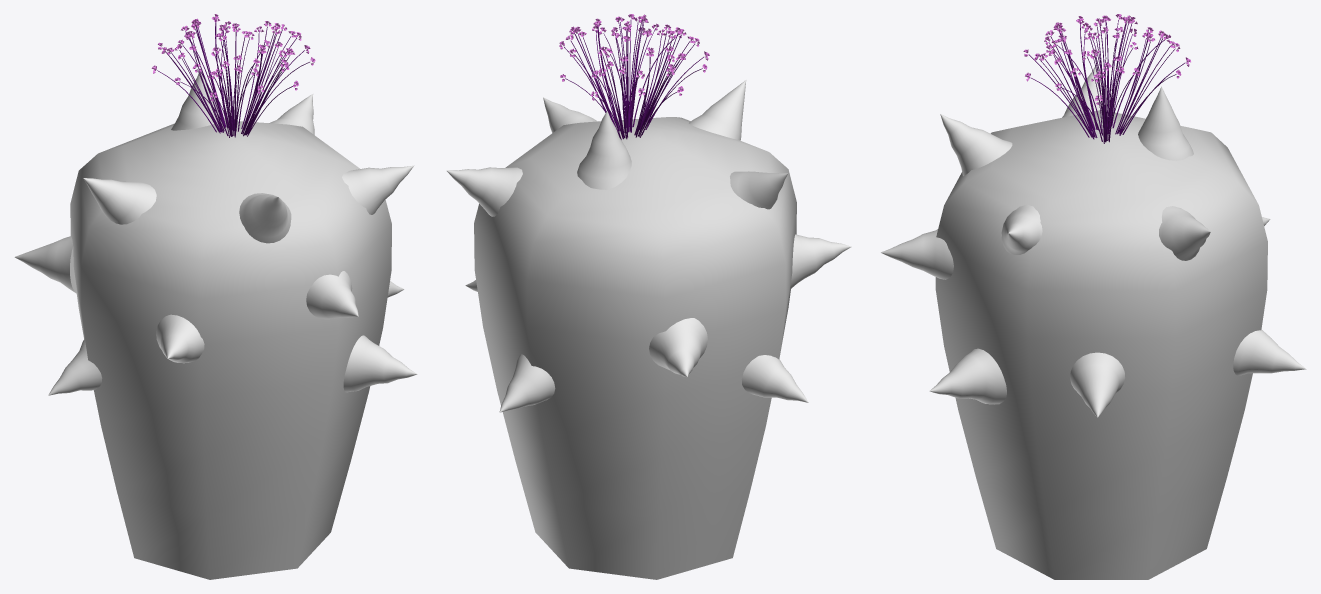
File: CactusFinal.fbx
3 views of the same model, side by side, from view 1: azimuth 30°, elevation 25°; view 2: azimuth 150°, elevation 25°; view 3: azimuth 270°, elevation 25° (orthographic). The views are drawn at different scales.
Visible parts, largest first — view 1: Line001, Cone011, Cone007, Cone003, Cone004, Cone001, Cone008, Cone009, Cone010, Cone002, Foliage002, Foliage001 (+5 smaller); view 2: Line001, Cone002, Cone009, Cone006, Cone010, Cone005, Cone003, Cone008, Cone007, Foliage004, Foliage002, Foliage003 (+4 smaller); view 3: Line001, Cone011, Cone013, Cone002, Cone003, Cone005, Cone004, Cone006, Cone001, Foliage006, Foliage001, Foliage003 (+4 smaller).
Boxes of the visible parts, left/top/right/bottom form: Line001: left=70, top=121, right=391, bottom=579; Cone011: left=343, top=335, right=417, bottom=392; Cone007: left=83, top=178, right=156, bottom=224; Cone003: left=239, top=193, right=291, bottom=243; Cone004: left=306, top=271, right=358, bottom=319; Cone001: left=342, top=165, right=413, bottom=214; Cone008: left=156, top=314, right=204, bottom=363; Cone009: left=14, top=236, right=77, bottom=293; Cone010: left=48, top=339, right=102, bottom=395; Cone002: left=171, top=71, right=225, bottom=130; Foliage002: left=241, top=21, right=315, bottom=129; Foliage001: left=215, top=23, right=270, bottom=131; Line001: left=474, top=117, right=796, bottom=579; Cone002: left=577, top=110, right=631, bottom=189; Cone009: left=649, top=318, right=707, bottom=377; Cone006: left=446, top=167, right=522, bottom=216; Cone010: left=741, top=355, right=808, bottom=402; Cone005: left=499, top=354, right=555, bottom=412; Cone003: left=689, top=80, right=746, bottom=140; Cone008: left=790, top=234, right=851, bottom=288; Cone007: left=730, top=171, right=788, bottom=209; Foliage004: left=639, top=24, right=709, bottom=130; Foliage002: left=559, top=18, right=619, bottom=131; Foliage003: left=599, top=14, right=682, bottom=128; Line001: left=935, top=110, right=1267, bottom=579; Cone011: left=929, top=348, right=1006, bottom=404; Cone013: left=1070, top=352, right=1125, bottom=417; Cone002: left=1138, top=86, right=1193, bottom=160; Cone003: left=940, top=114, right=1012, bottom=176; Cone005: left=1233, top=329, right=1306, bottom=375; Cone004: left=881, top=229, right=953, bottom=279; Cone006: left=1159, top=206, right=1210, bottom=260; Cone001: left=1001, top=204, right=1042, bottom=254; Foliage006: left=1115, top=27, right=1190, bottom=135; Foliage001: left=1051, top=18, right=1138, bottom=135; Foliage003: left=1023, top=35, right=1097, bottom=139.
Size of the model in its own units: 128 by 176 by 132.
